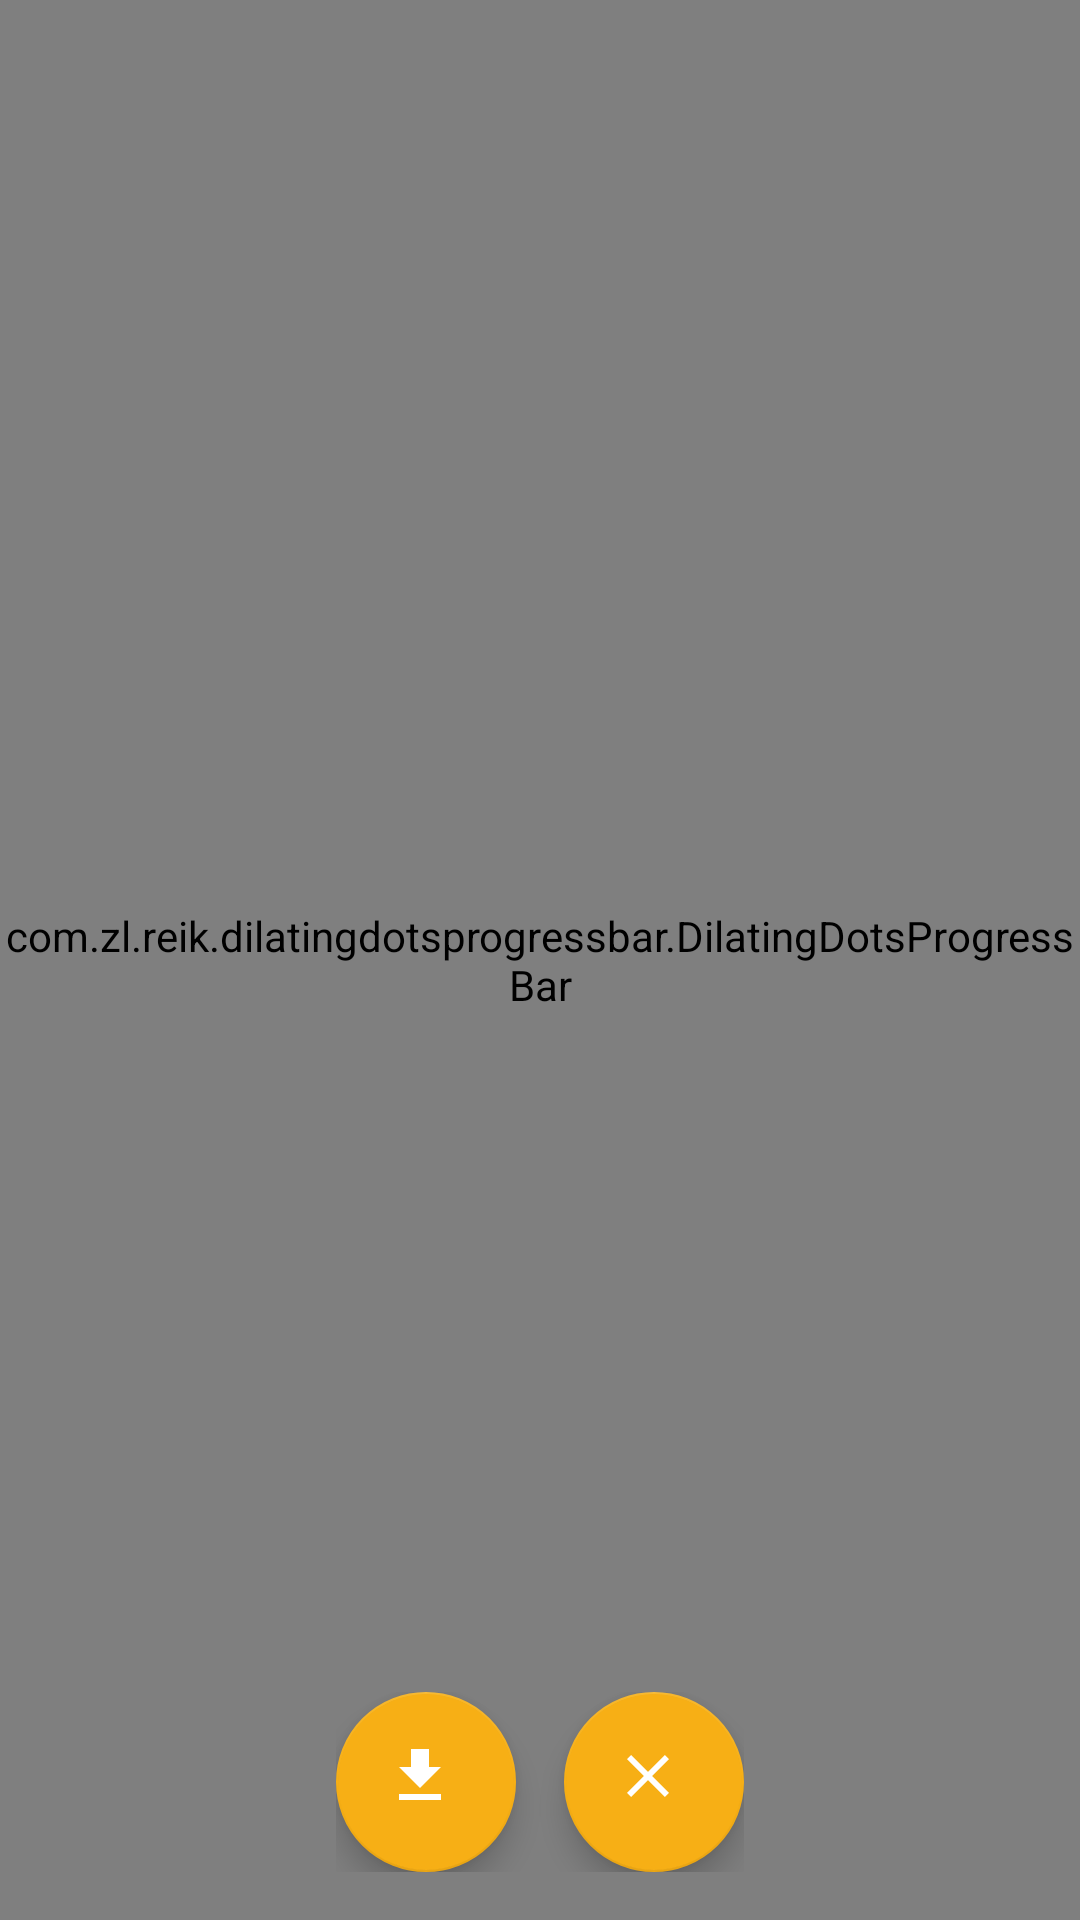

Icons on this 1080 × 1920 Android screen, each with its box as (x1, y1, x2, y2):
close: (564, 1692, 744, 1872)
download: (336, 1692, 516, 1872)
